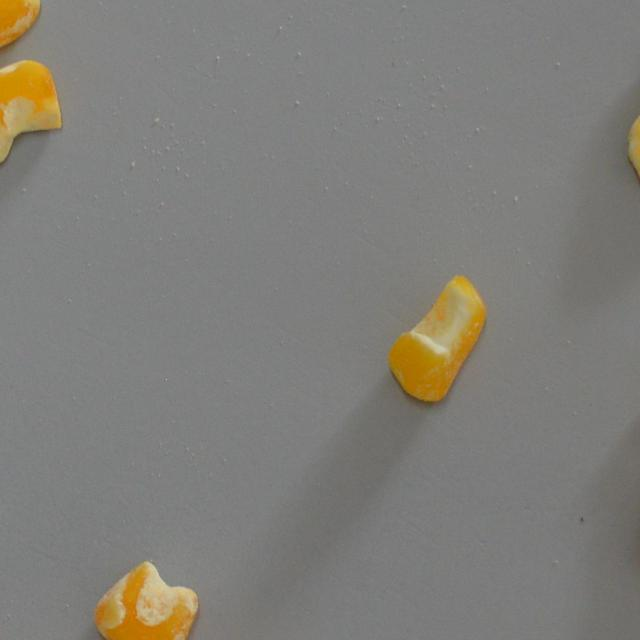pelicula: (387, 274, 486, 401), (93, 561, 197, 640), (0, 58, 62, 168), (0, 0, 39, 48), (627, 96, 640, 192)
